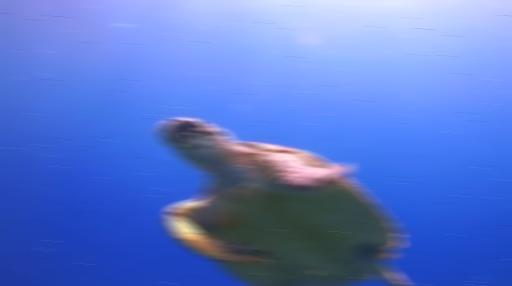Fish: (158, 117, 407, 285)
